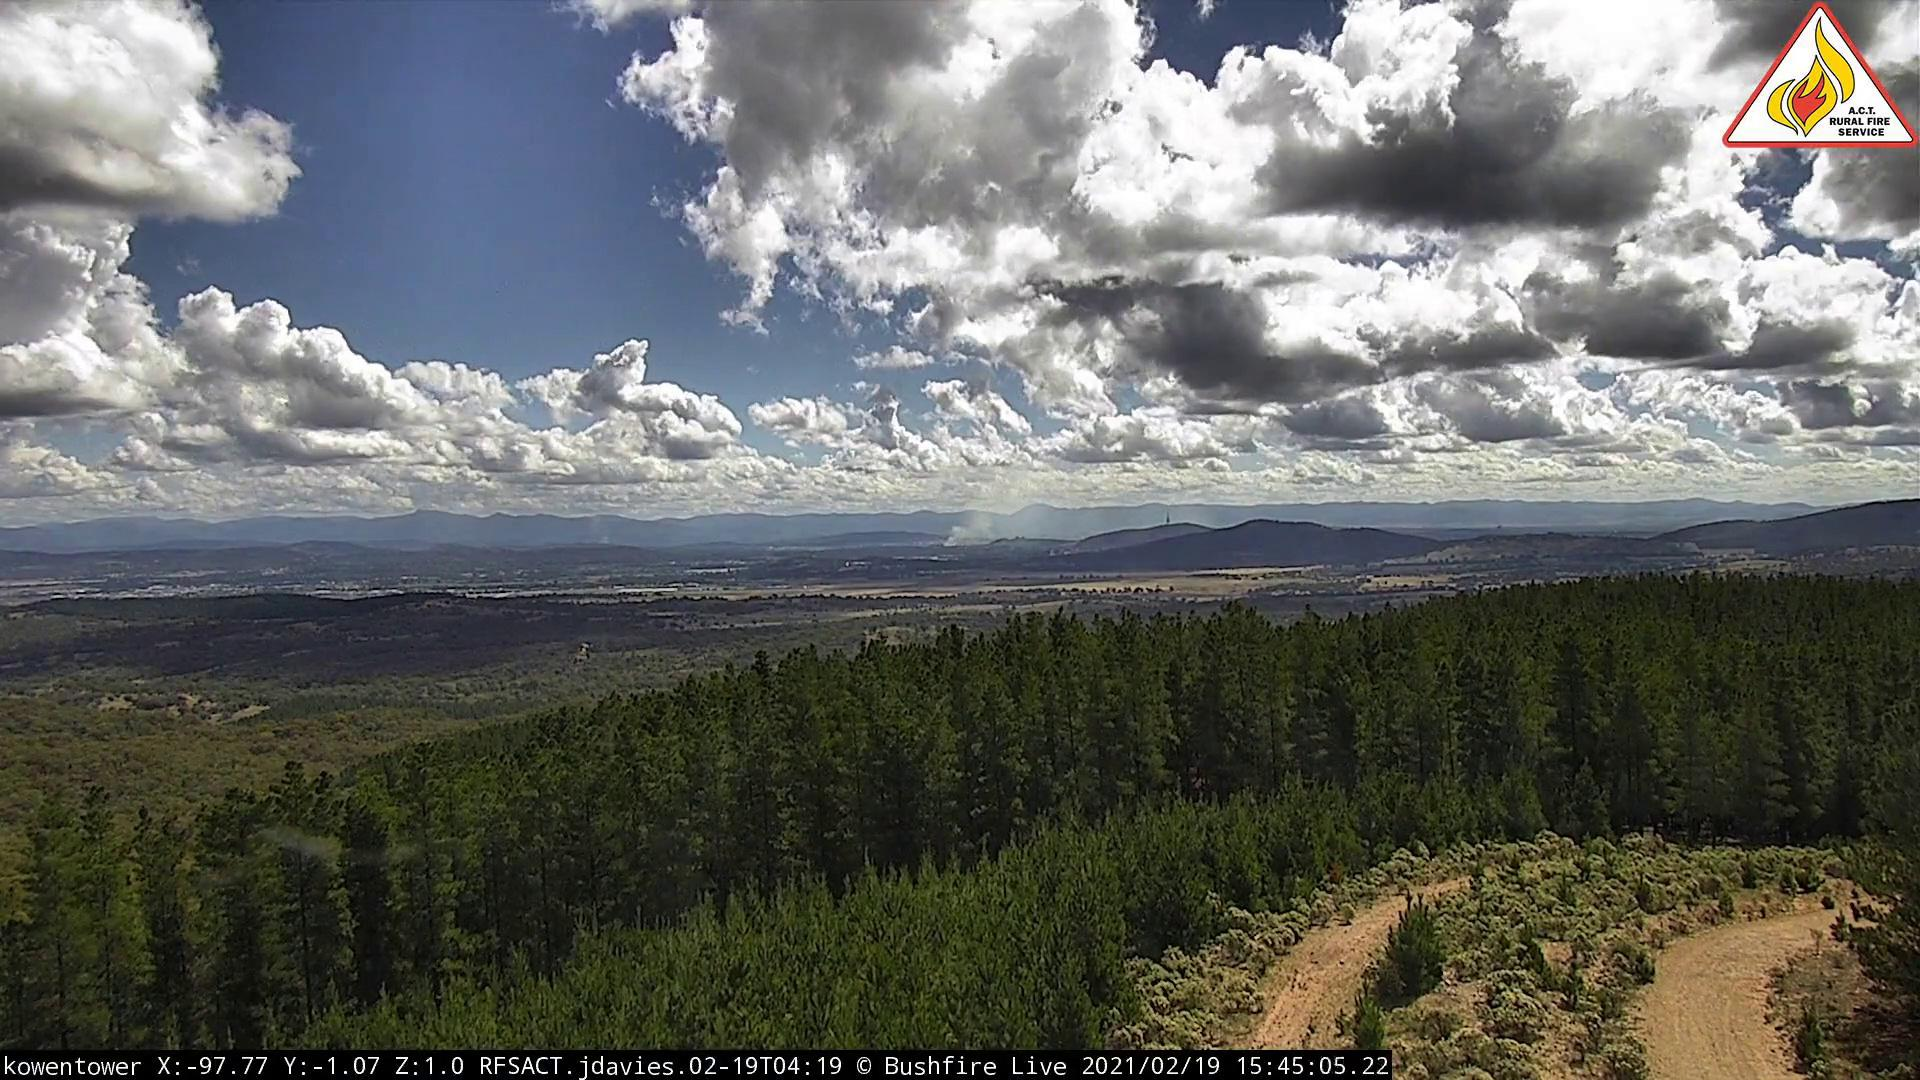Smoke: (942, 512, 1021, 553), (596, 531, 615, 554)
